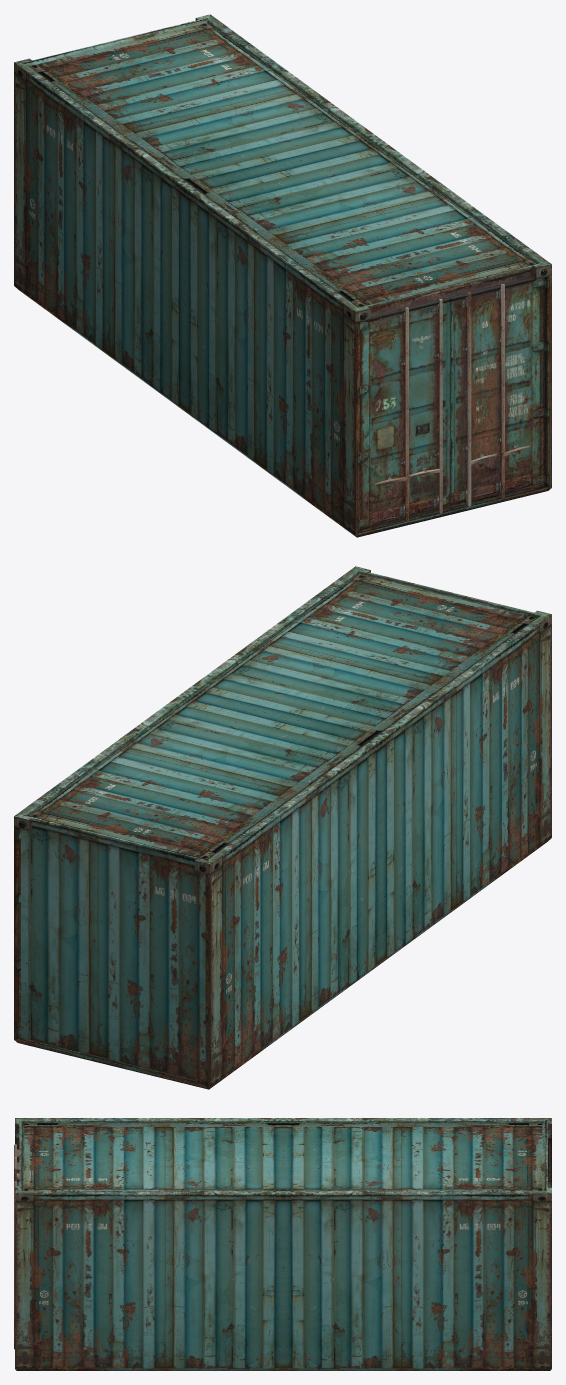
Rendered from container_4x12_green.fbx.
3 views of the same model, one above another, from view 1: azimuth 30°, elevation 25°; view 2: azimuth 150°, elevation 25°; view 3: azimuth 270°, elevation 25° (orthographic). The views are drawn at different scales.
Parts seen in each view (by area): view 1: container_4x12_green.object; view 2: container_4x12_green.object; view 3: container_4x12_green.object.
Part boxes in pixels (<box>): container_4x12_green.object: <box>14,14,551,537</box>; container_4x12_green.object: <box>14,566,551,1089</box>; container_4x12_green.object: <box>14,1118,551,1370</box>.
Bounding box in the file's own units: 278 × 307 × 839.
